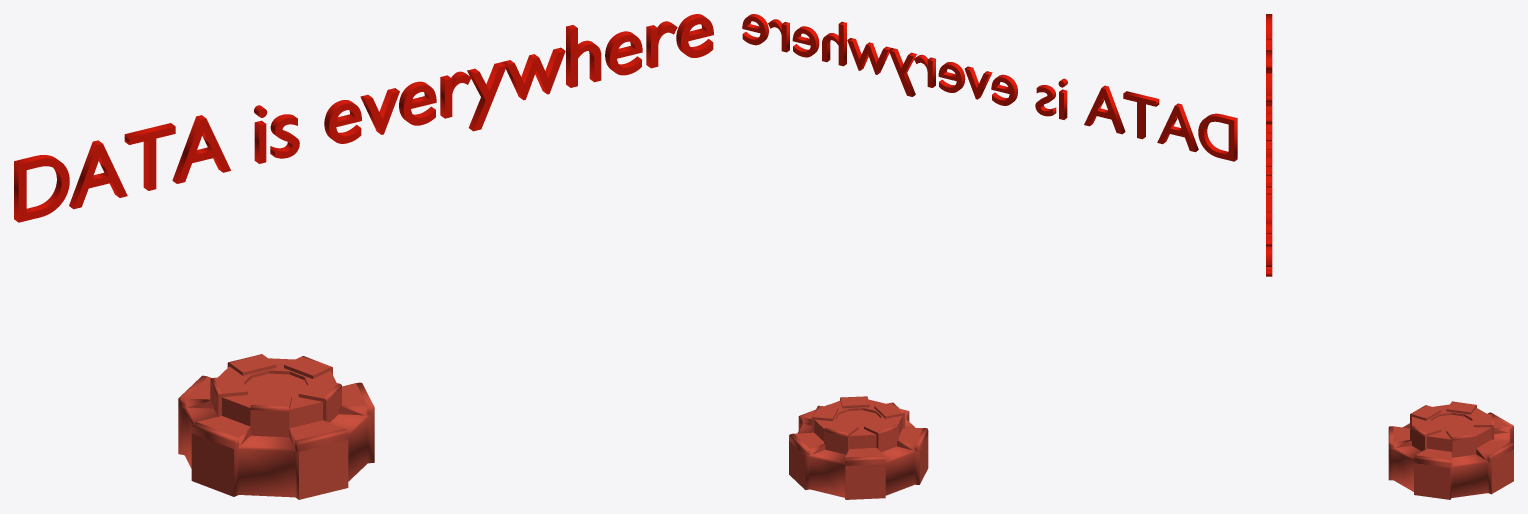
Rendered from explode_with_text.gltf.
The picture shows the model from 3 angles, left to right: view 1: azimuth 30°, elevation 25°; view 2: azimuth 150°, elevation 25°; view 3: azimuth 270°, elevation 25°; orthographic projection. The views are drawn at different scales.
Parts seen in each view (by area): view 1: display, Text; view 2: display, Text; view 3: display, Text.
Part boxes in pixels (<box>): display: <box>178,354,374,499</box>; Text: <box>14,14,713,222</box>; display: <box>789,396,928,499</box>; Text: <box>742,14,1237,161</box>; display: <box>1388,401,1513,499</box>; Text: <box>1266,14,1272,276</box>.
Size of the model in its own units: 8.54 by 5.8 by 3.95.
